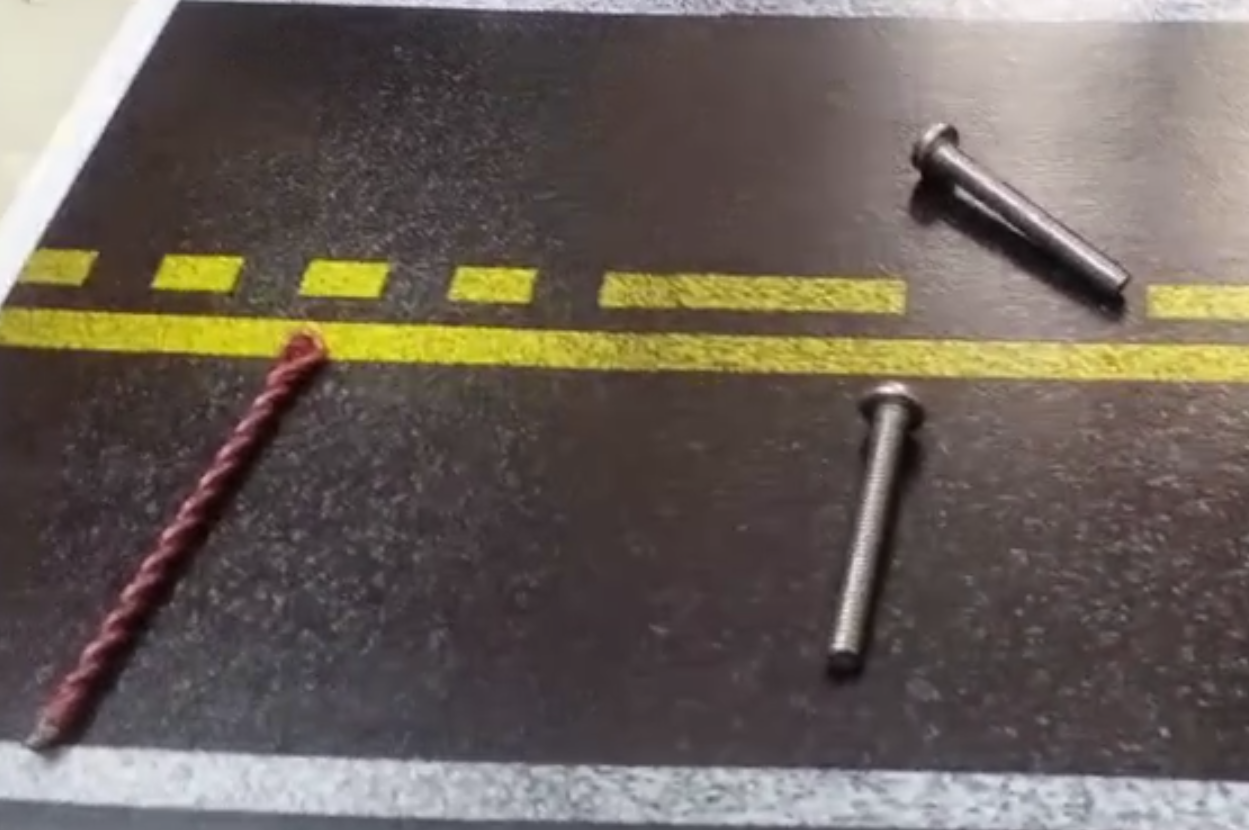metal: (20, 326, 325, 753), (910, 120, 1137, 310), (809, 381, 929, 682)
